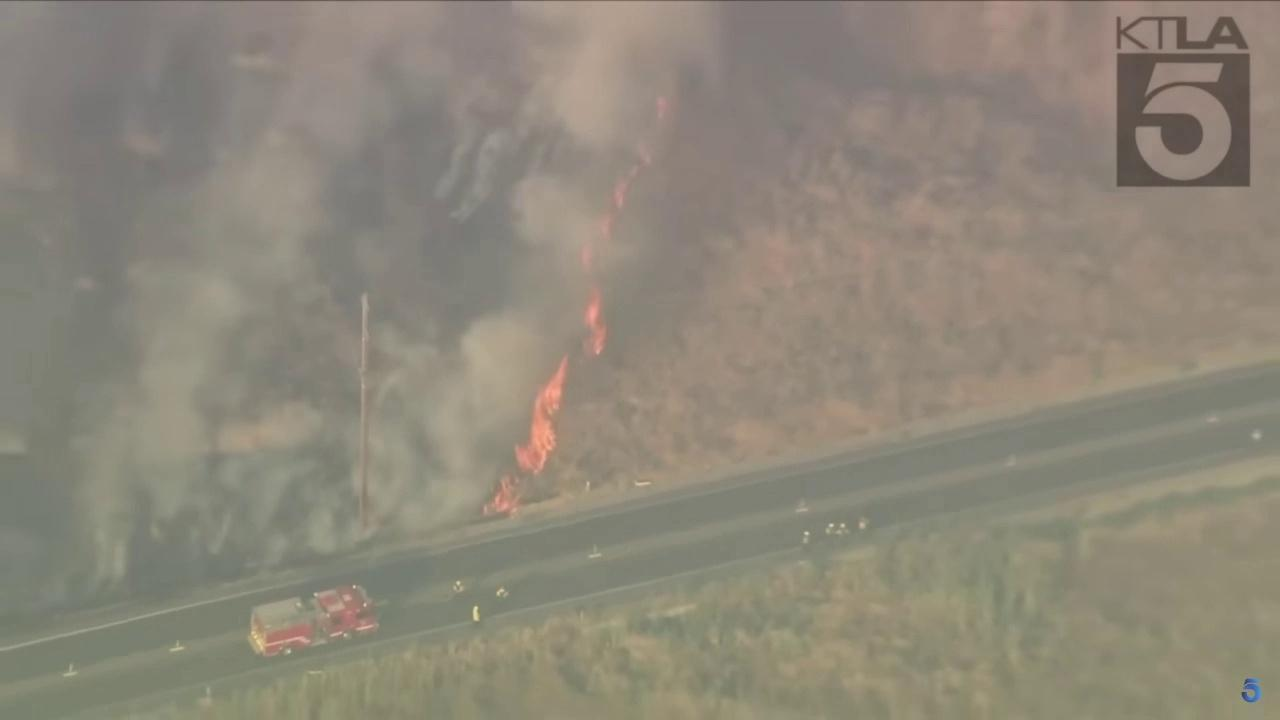fire: (480, 350, 571, 520), (582, 285, 610, 356), (612, 164, 638, 209), (579, 237, 593, 269), (600, 215, 613, 243), (656, 97, 668, 120)
smoke: (0, 0, 736, 590)
